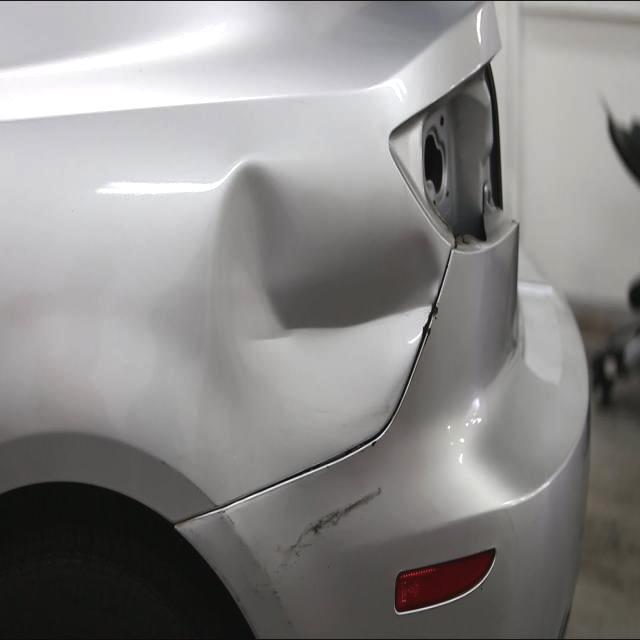minor: (198, 123, 448, 439), (284, 490, 384, 560)
